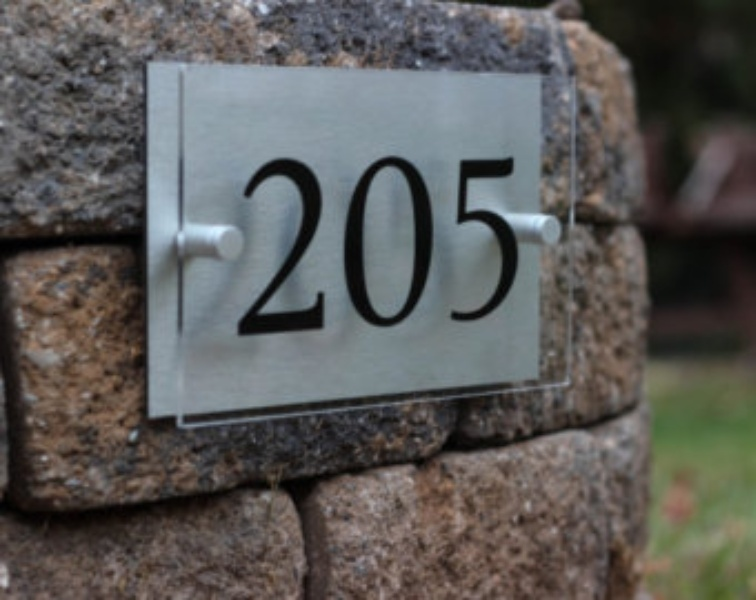text: (241, 154, 256, 341), (257, 154, 272, 341), (273, 154, 288, 341), (289, 154, 304, 341), (305, 154, 320, 341), (321, 154, 336, 341), (337, 154, 352, 341), (353, 154, 368, 341), (369, 154, 384, 341), (385, 154, 400, 341), (401, 154, 416, 341), (417, 154, 432, 341), (433, 154, 448, 341), (449, 154, 464, 341), (465, 154, 480, 341), (481, 154, 496, 341), (497, 154, 512, 341), (232, 154, 240, 341), (513, 154, 519, 341)
